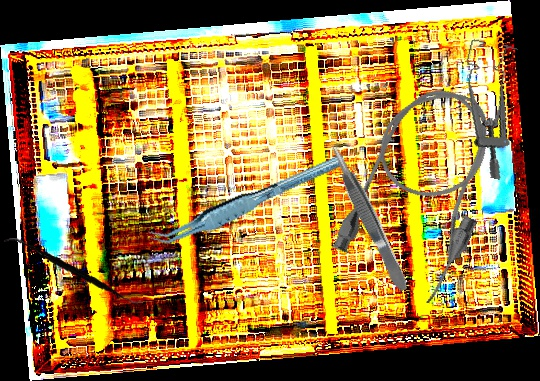Cannula: (326, 71, 521, 309)
Spatula Surgical: (3, 227, 144, 317)
Speculum: (443, 37, 530, 181)
Tissue Forceps: (142, 152, 353, 250), (325, 140, 411, 295)
